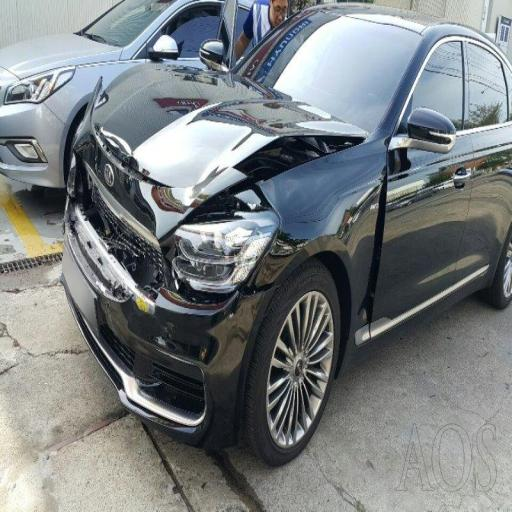broken: (109, 166, 291, 426), (68, 133, 154, 341)
dent: (136, 76, 310, 183)
